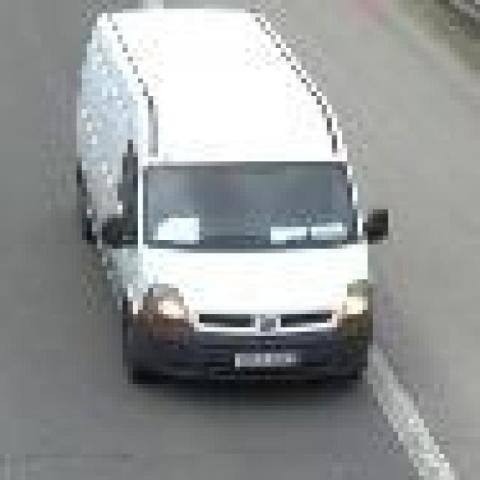van: (76, 7, 373, 386)
